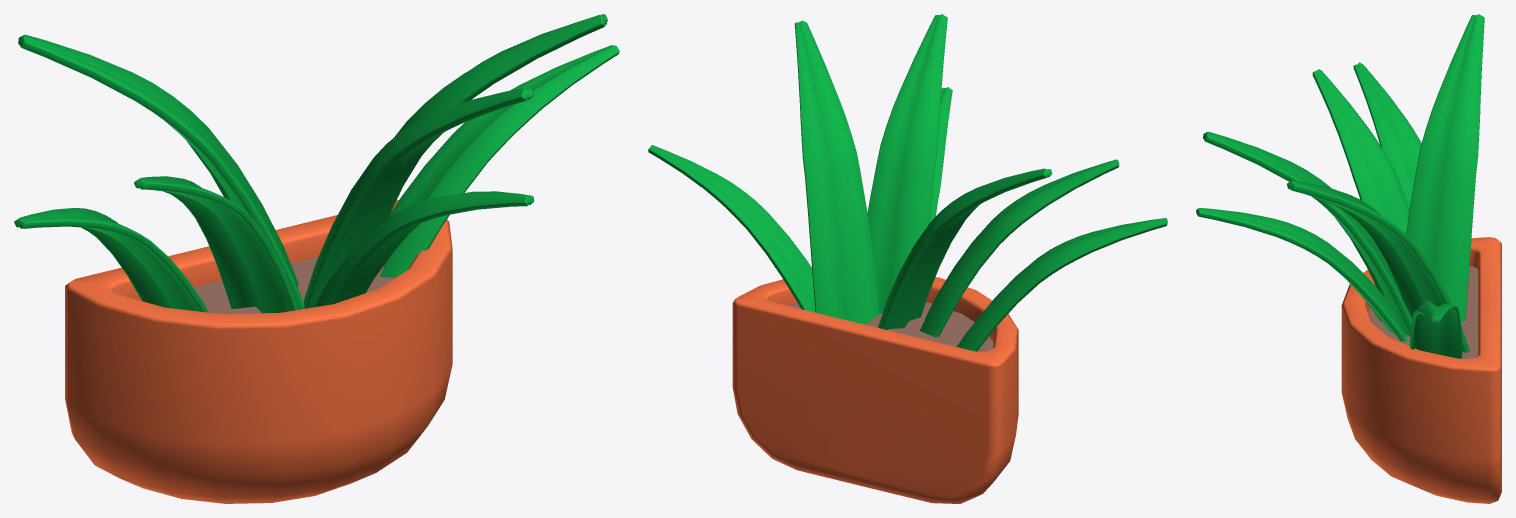
File: Town_12_Plant_1.glb
3 views of the same model, side by side, from view 1: azimuth 30°, elevation 25°; view 2: azimuth 150°, elevation 25°; view 3: azimuth 270°, elevation 25° (orthographic). The views are drawn at different scales.
Parts seen in each view (by area): view 1: Town_12_Plant_1; view 2: Town_12_Plant_1; view 3: Town_12_Plant_1.
Boxes of the visible parts, left/top/right/bottom form: Town_12_Plant_1: left=14, top=14, right=619, bottom=503; Town_12_Plant_1: left=648, top=14, right=1167, bottom=503; Town_12_Plant_1: left=1196, top=14, right=1501, bottom=503.
Bounding box in the file's own units: 0.6842 × 0.4844 × 0.3686.
Materials: 1 (1 with a texture image).
